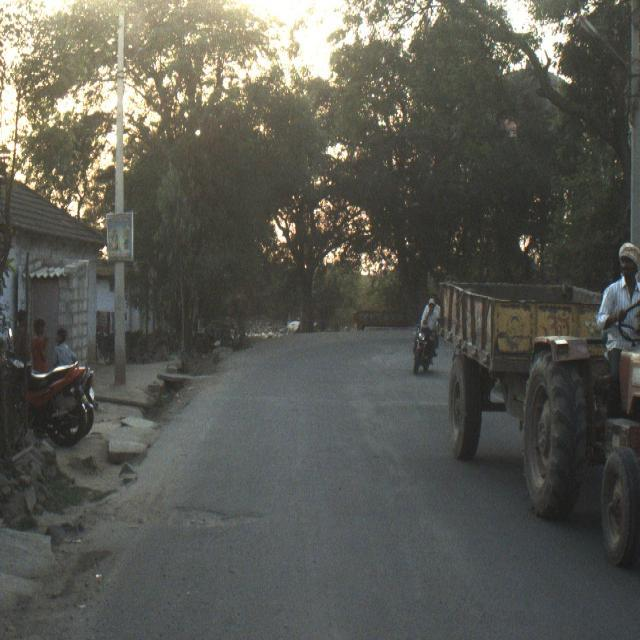pothole: (156, 487, 260, 577)
